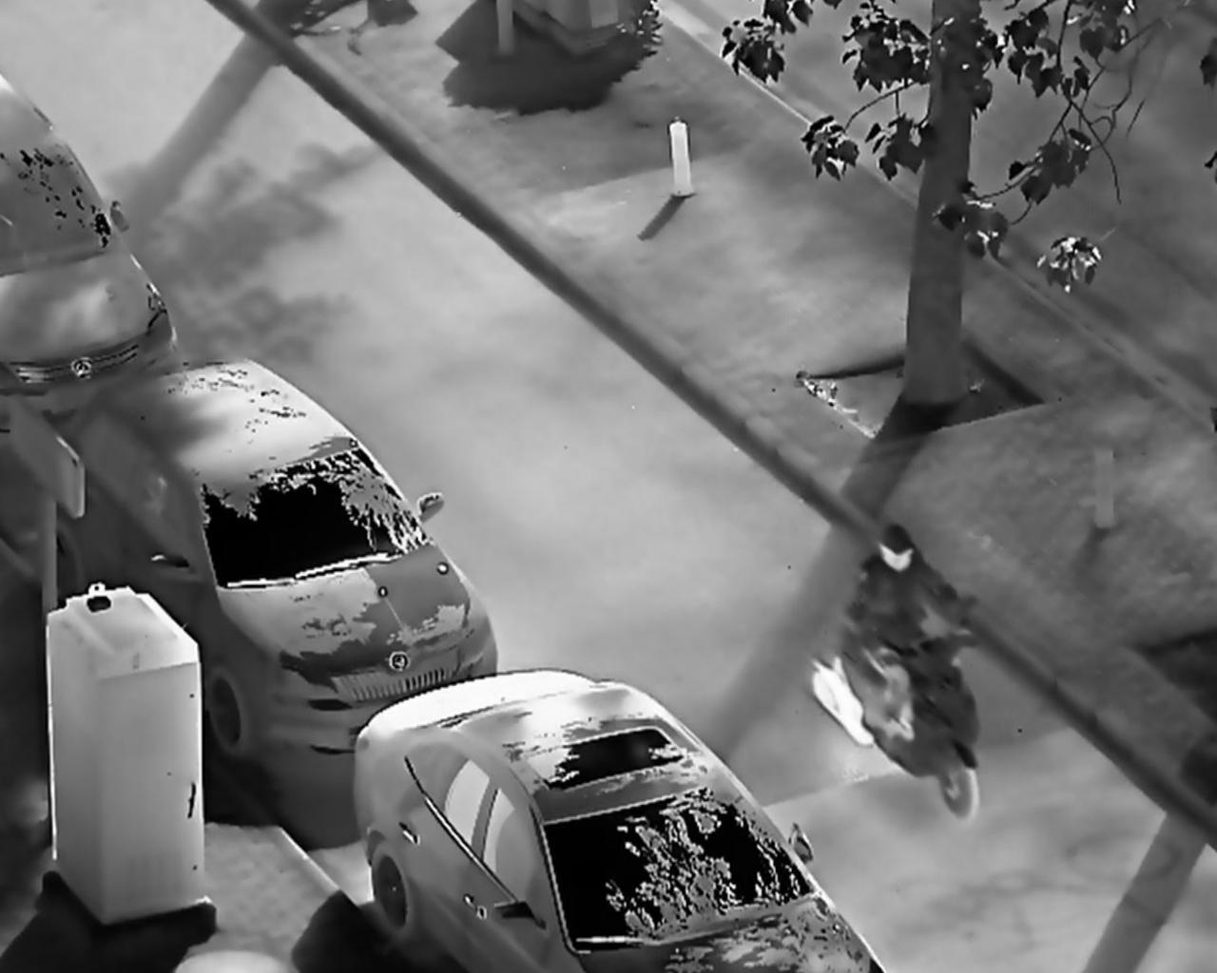person: (838, 523, 983, 749)
